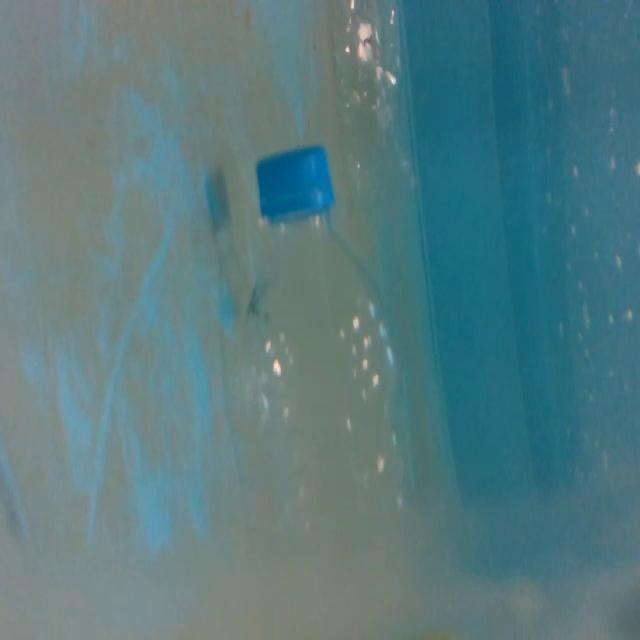plastic bottle: (237, 135, 418, 551)
